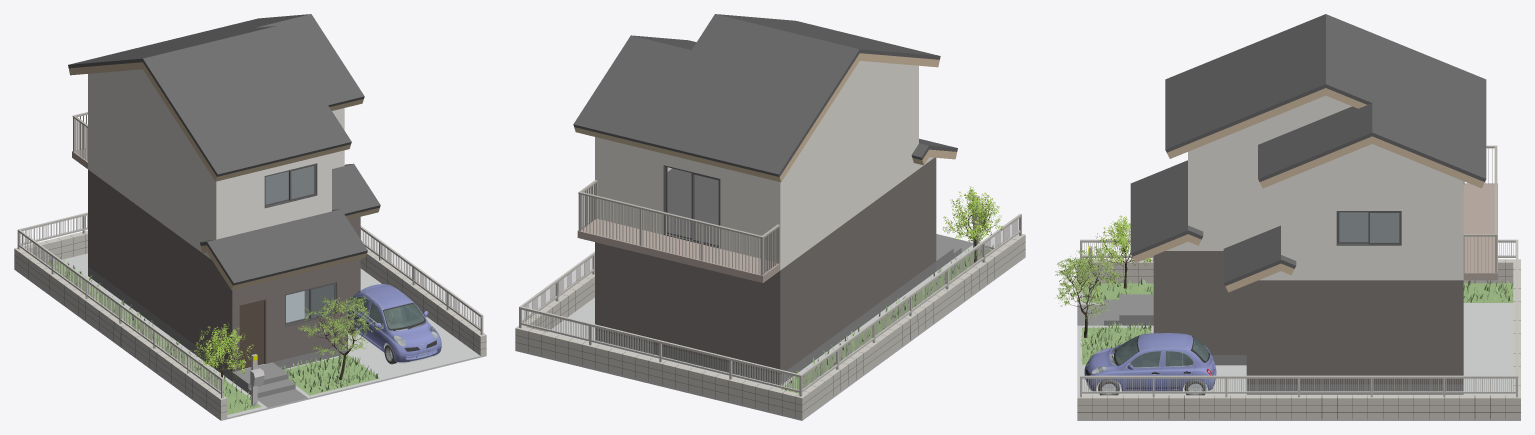
The model's file is normal_house.glb.
3 views of the same model, side by side, from view 1: azimuth 30°, elevation 25°; view 2: azimuth 150°, elevation 25°; view 3: azimuth 270°, elevation 25° (orthographic). The views are drawn at different scales.
Parts seen in each view (by area): view 1: 40㎡立体モデル, 門柱; view 2: 40㎡立体モデル; view 3: 40㎡立体モデル.
Boxes of the visible parts, x1=… form: 40㎡立体モデル: x1=14, y1=14, x2=486, y2=420; 門柱: x1=250, y1=354, x2=264, y2=406; 40㎡立体モデル: x1=515, y1=14, x2=1025, y2=420; 40㎡立体モデル: x1=1054, y1=14, x2=1520, y2=420.
Bounding box in the file's own units: 8.63 × 8.3 × 12.2.
Materials: 29 (1 with a texture image).
